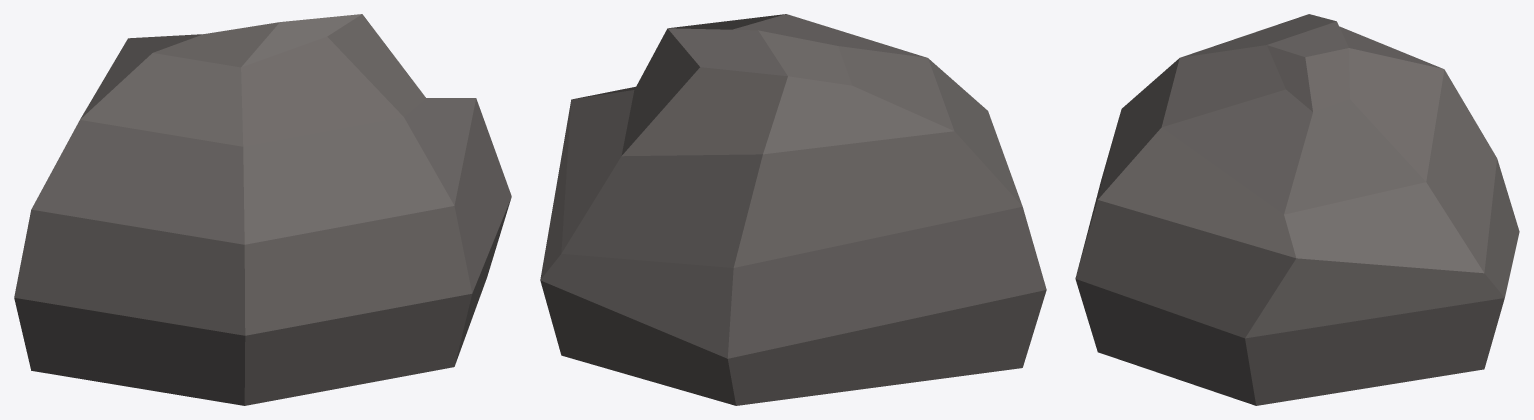
Rendered from SmallRock.glb.
3 views of the same model, side by side, from view 1: azimuth 30°, elevation 25°; view 2: azimuth 150°, elevation 25°; view 3: azimuth 270°, elevation 25° (orthographic). The views are drawn at different scales.
Visible parts, largest first — view 1: pSphere9; view 2: pSphere9; view 3: pSphere9.
Boxes of the visible parts, <box> form: pSphere9: <box>14,14,511,405</box>; pSphere9: <box>540,14,1046,405</box>; pSphere9: <box>1075,14,1519,405</box>.
Bounding box in the file's own units: 0.1592 × 0.0894 × 0.1358.
1 material, 1 textured.
